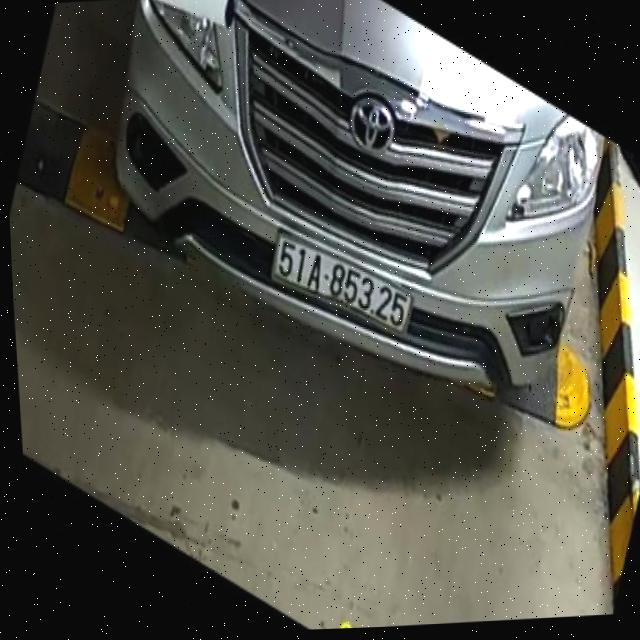car: (94, 0, 636, 416)
plate: (260, 218, 418, 348)
